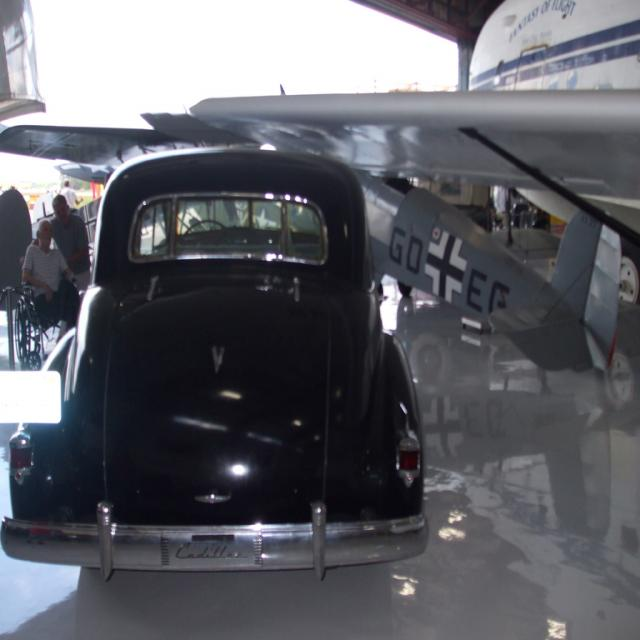other: (0, 148, 424, 578)
